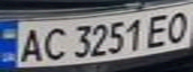1: (121, 16, 148, 52)
2: (87, 20, 112, 57)
3: (69, 21, 93, 60)
5: (106, 19, 127, 55)
A: (15, 25, 48, 64)
C: (36, 25, 69, 62)
E: (142, 11, 175, 48)
O: (160, 8, 193, 44)
